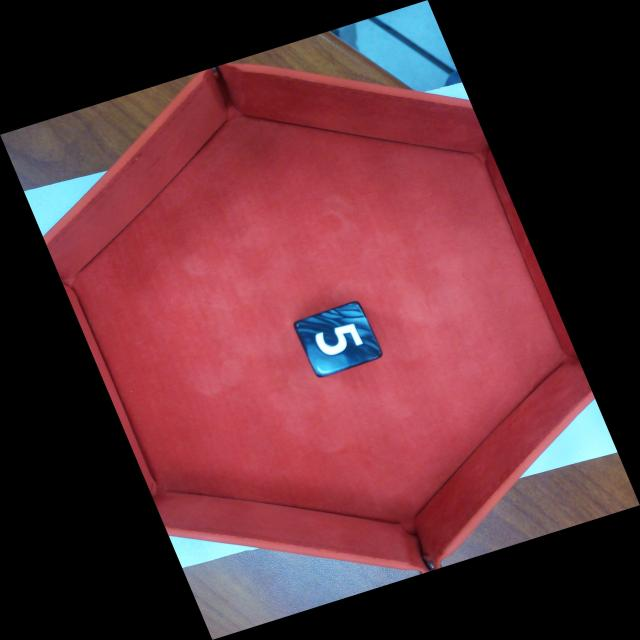dice: (292, 301, 384, 379)
